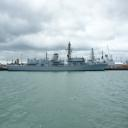Fragata: (6, 50, 109, 74)
